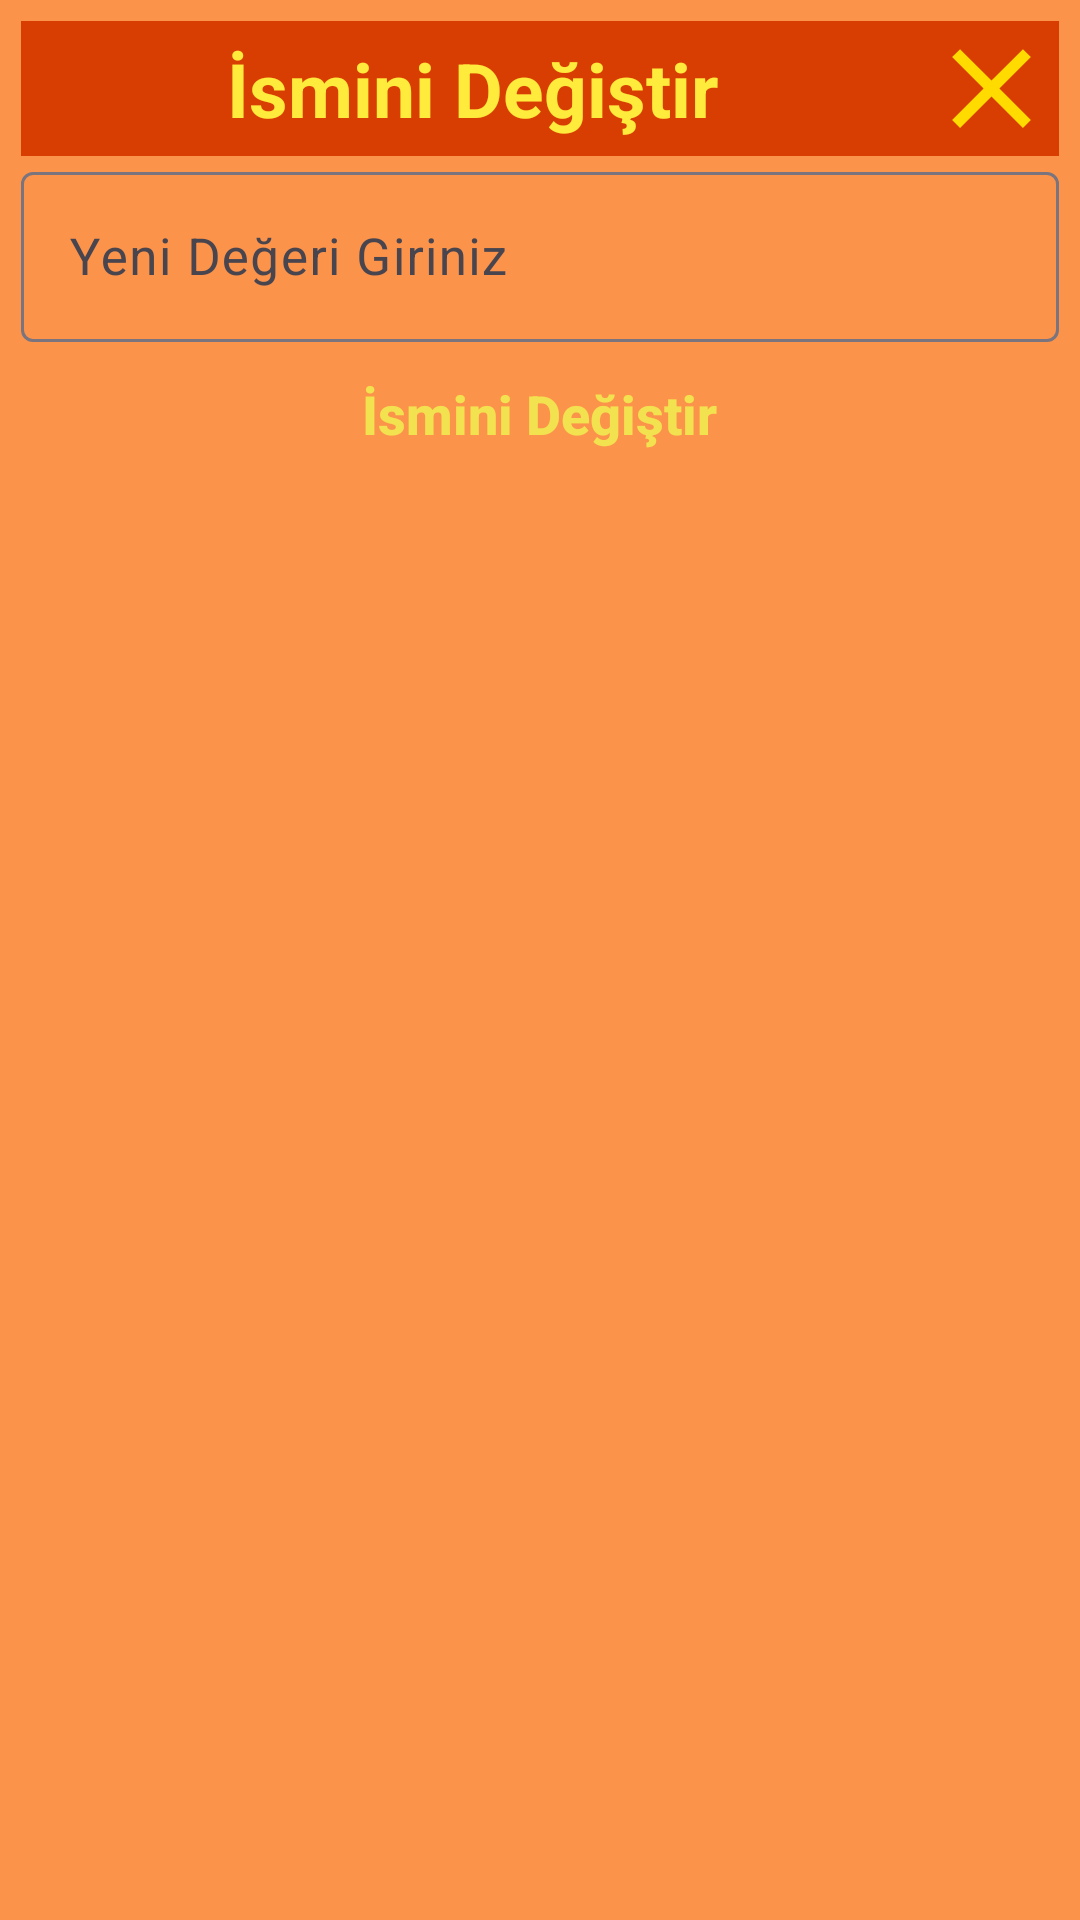

Icons on this 1080px x 1920px Android screen, each with its box as [x1,y1,x2,y2]:
close: [924,21,1059,156]
